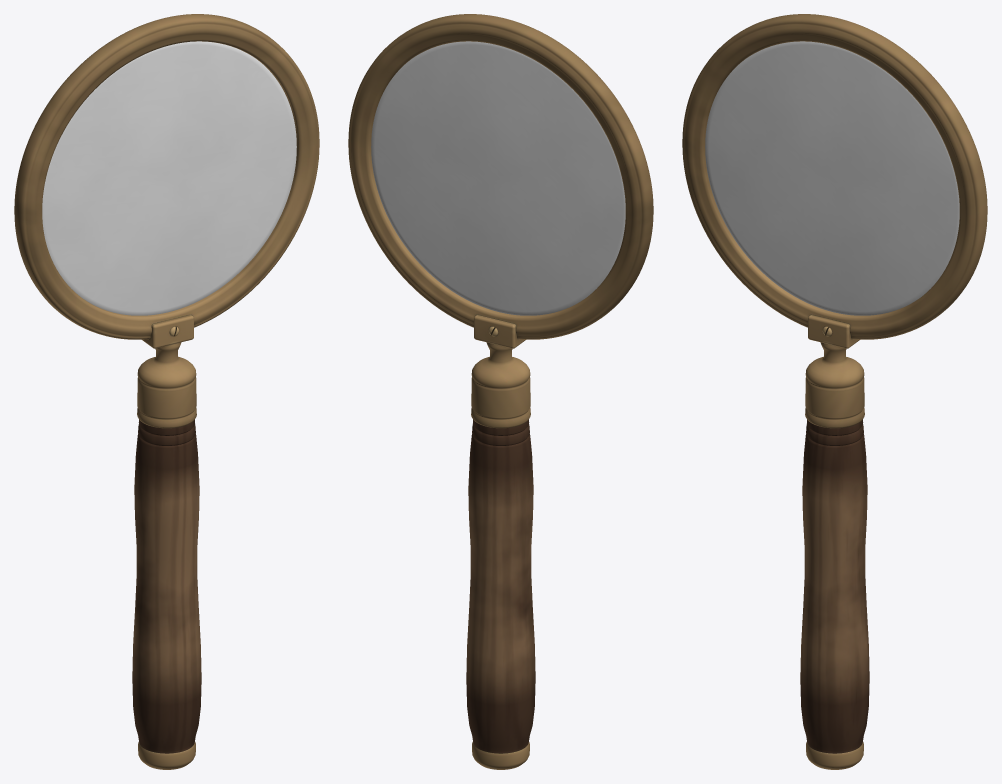
The model's file is Magnifier.fbx.
The picture shows the model from 3 angles, left to right: view 1: azimuth 30°, elevation 25°; view 2: azimuth 150°, elevation 25°; view 3: azimuth 330°, elevation 25°; orthographic projection.
Parts seen in each view (by area): view 1: Magnifier_Lens, Magnifier_Body; view 2: Magnifier_Lens, Magnifier_Body; view 3: Magnifier_Lens, Magnifier_Body.
Boxes of the visible parts, bbox=[...] form: Magnifier_Lens: bbox=[42, 41, 296, 315]; Magnifier_Body: bbox=[14, 14, 319, 769]; Magnifier_Lens: bbox=[371, 41, 625, 315]; Magnifier_Body: bbox=[348, 14, 653, 769]; Magnifier_Lens: bbox=[705, 41, 959, 315]; Magnifier_Body: bbox=[682, 14, 987, 769].
Bounding box in the file's own units: 0.1125 × 0.2662 × 0.0225.
